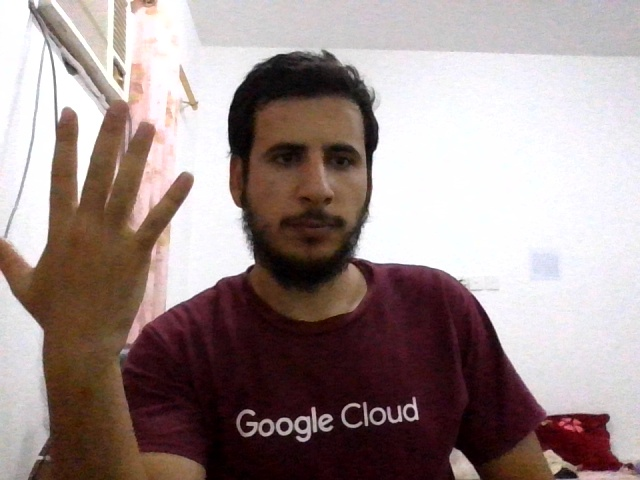Five: (1, 101, 193, 334)
